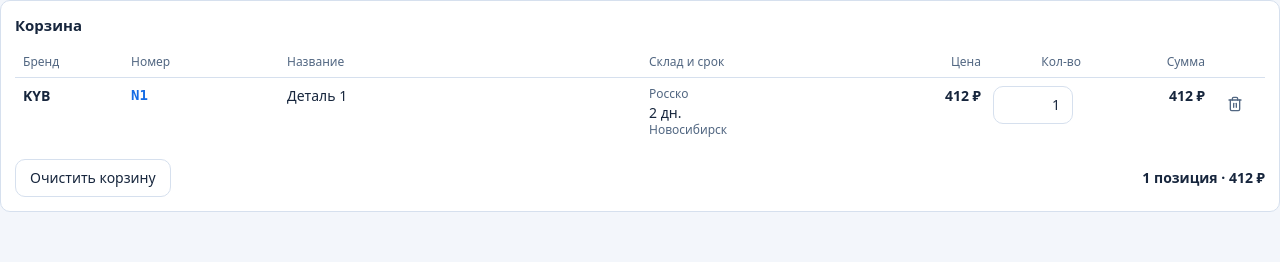
it: CartPage › shows remove error
Check: the link "N1" is shown, box x1=131 y1=87 x2=148 y2=103
What coordinates should you click on to do the following:
click the button named "Удалить"
I would click on:
 (1235, 104)
Its box is x1=1217 y1=86 x2=1253 y2=122.
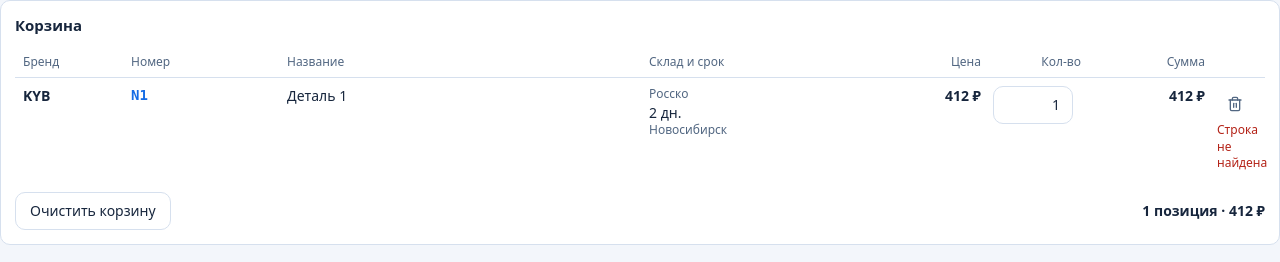
Check: the link "N1" is shown, box x1=131 y1=87 x2=148 y2=103
Check: the text "Строка не найдена" is shown, box x1=1217 y1=122 x2=1267 y2=172
